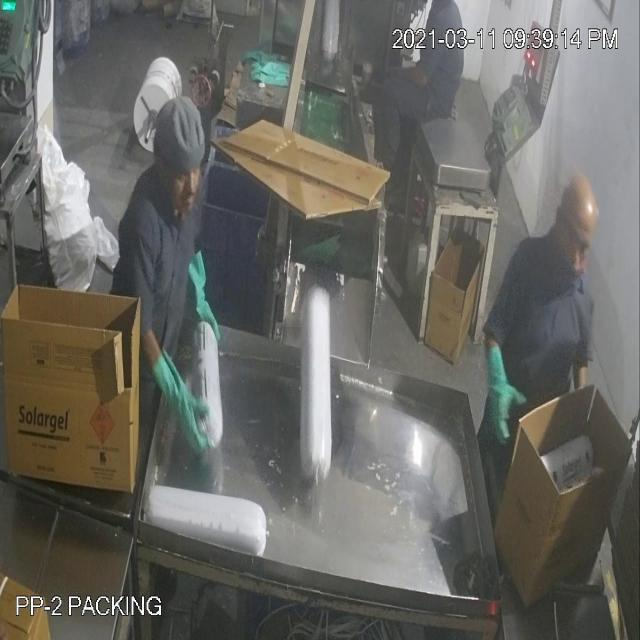Gloves: (42, 102, 501, 397)
